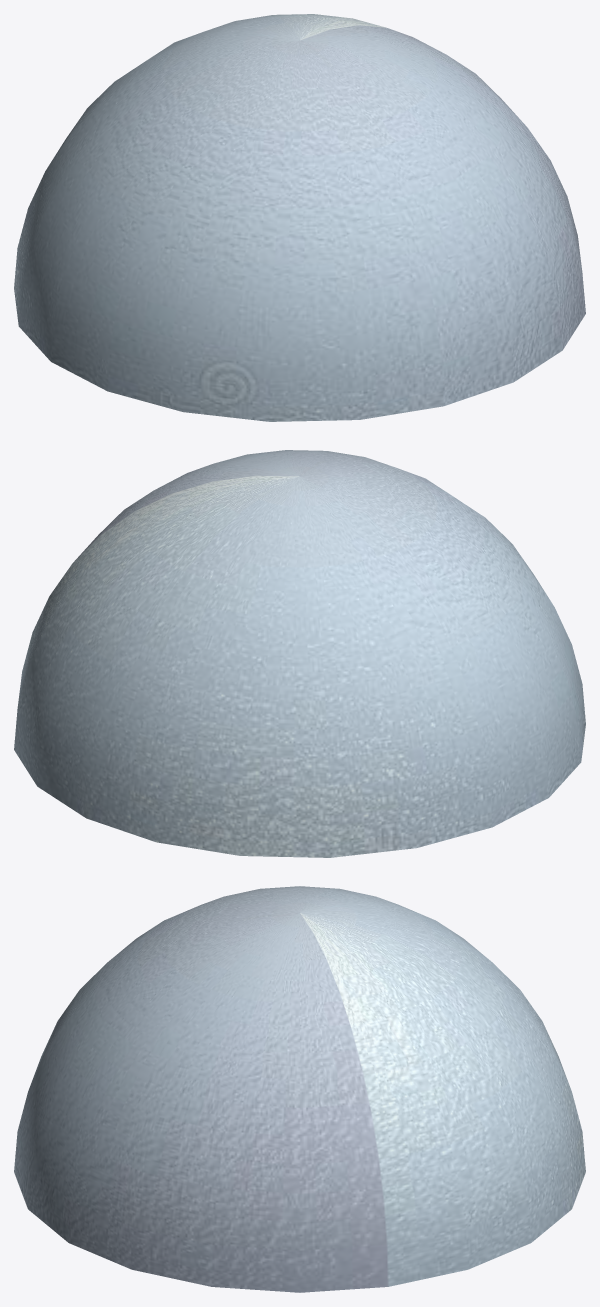
File: burbuja1.obj
3 renders of one model, top to bottom at view 1: azimuth 30°, elevation 25°; view 2: azimuth 150°, elevation 25°; view 3: azimuth 270°, elevation 25°, orthographic.
Visible parts, largest first — view 1: polySurface4 pSphere2; view 2: polySurface4 pSphere2; view 3: polySurface4 pSphere2.
Boxes of the visible parts, bbox=[...] form: polySurface4 pSphere2: bbox=[14, 14, 585, 421]; polySurface4 pSphere2: bbox=[14, 450, 585, 857]; polySurface4 pSphere2: bbox=[14, 886, 585, 1292].
Bounding box in the file's own units: 1.8 × 0.8987 × 1.8.
1 material, 1 textured.
